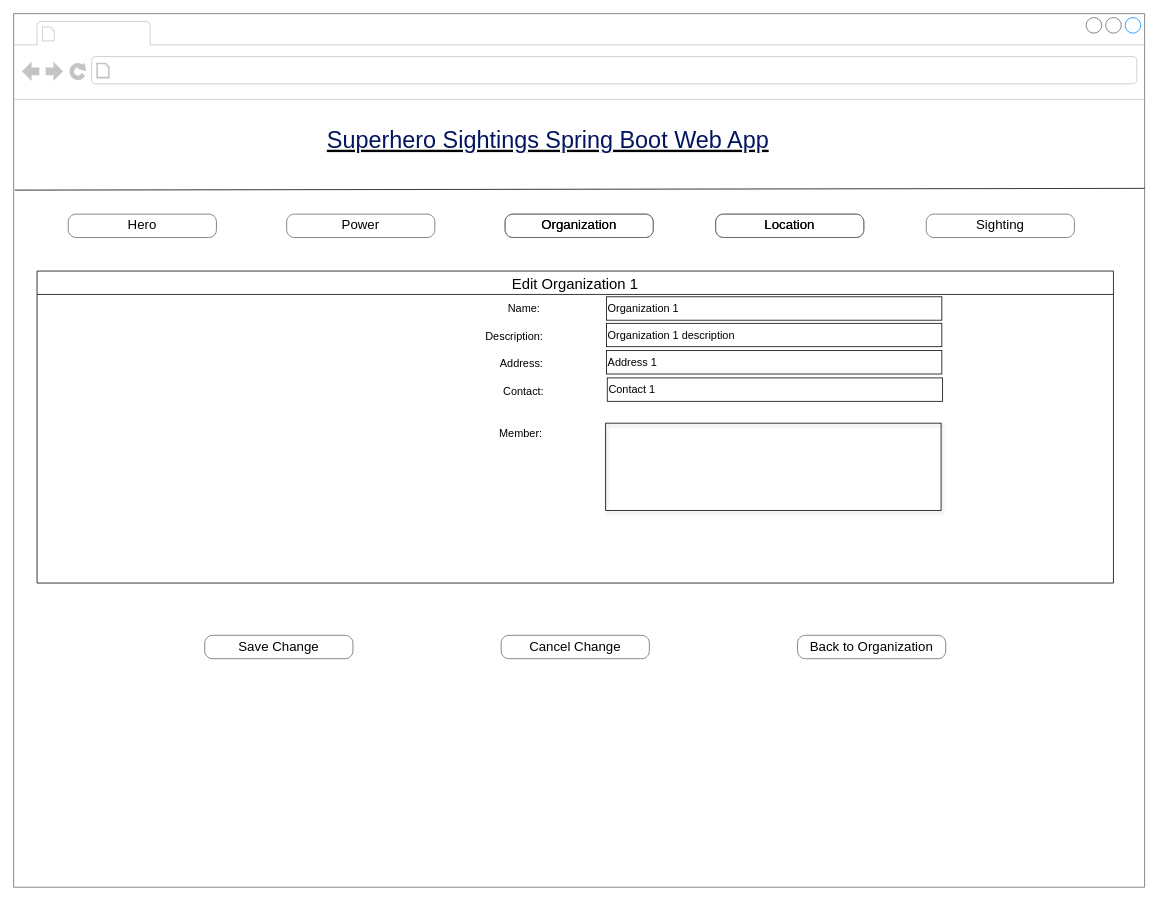
Some shapes in this 1159 by 901 pixel diagram are drawn without their labels. The centre of each missing label's shape, as x and y in pixels:
"Edit Organization" belongs at (x=118, y=32).
"Hero 2 Hero 3 Hero 4 Hero 9 Hero 10 Hero 11" belongs at (x=774, y=467).
"https://www.default.com" belongs at (x=212, y=70).
